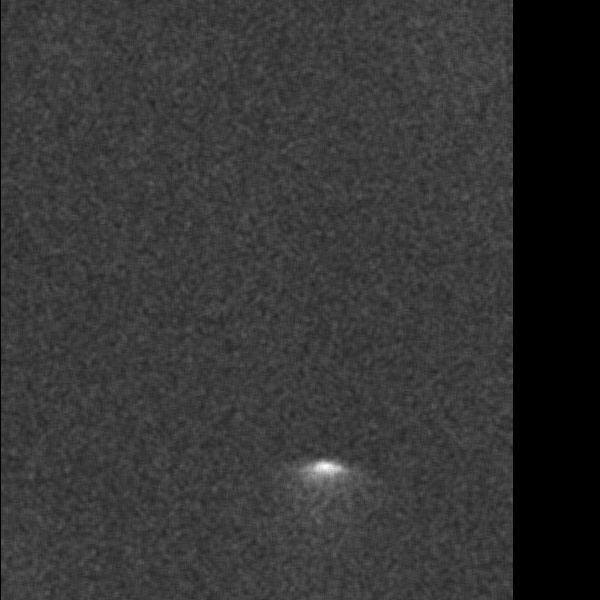spark: (208, 316, 272, 382), (477, 13, 510, 49)
